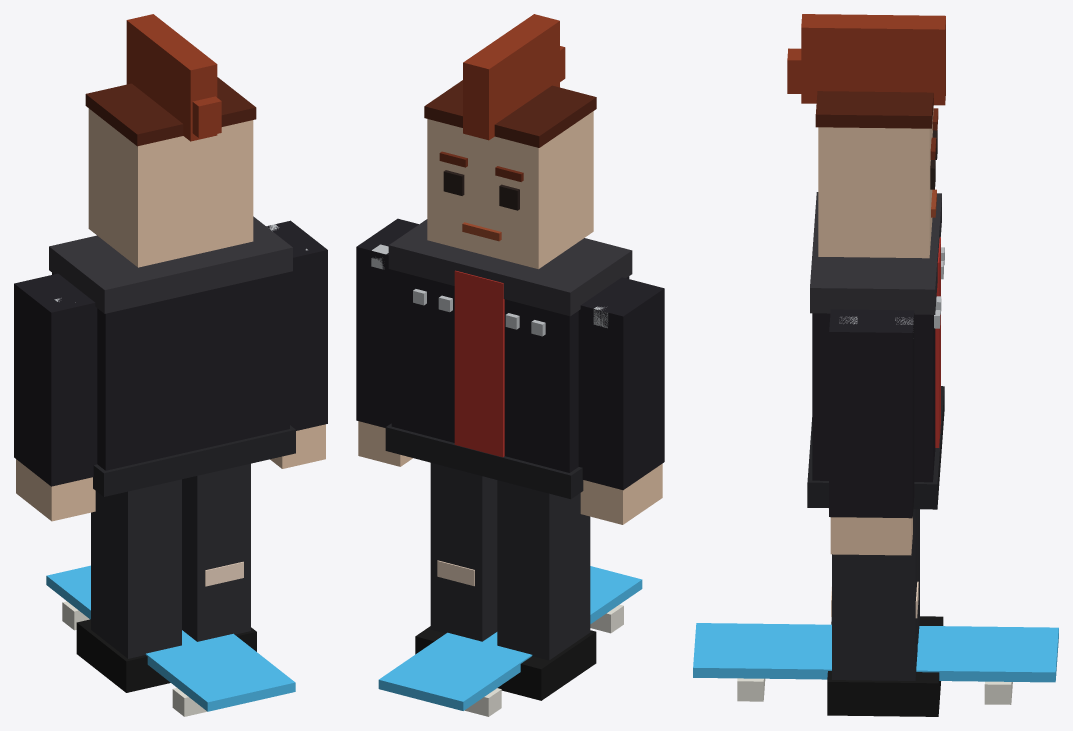
File: teen_punk_1.glb
3 views of the same model, side by side, from view 1: azimuth 30°, elevation 25°; view 2: azimuth 150°, elevation 25°; view 3: azimuth 270°, elevation 25° (orthographic). The views are drawn at different scales.
Parts seen in each view (by area): view 1: Box14, Box23, Box3, Box1, Box16, Box7, Box32, Box10, Box30, Box21, Box29, Box2 (+5 smaller); view 2: Box14, Box23, Box3, Box1, Box7, Box16, Box32, Box15, Box30, Box10, Box21, Box29 (+6 smaller); view 3: Box10, Box32, Box23, Box30, Box7, Box16, Box14, Box9, Box29, Box13, Box21, Box15 (+3 smaller).
Part boxes in pixels (<box>): Box14: <box>52,272,289,470</box>; Box23: <box>88,108,253,267</box>; Box3: <box>14,273,97,486</box>; Box1: <box>91,479,181,658</box>; Box16: <box>49,216,292,313</box>; Box7: <box>182,463,250,641</box>; Box32: <box>46,565,295,711</box>; Box10: <box>266,220,327,430</box>; Box30: <box>126,14,217,141</box>; Box21: <box>93,425,295,496</box>; Box29: <box>85,77,256,146</box>; Box2: <box>76,619,170,692</box>; Box14: <box>391,270,629,472</box>; Box23: <box>427,111,593,269</box>; Box3: <box>578,277,664,490</box>; Box1: <box>497,480,590,660</box>; Box7: <box>430,463,497,641</box>; Box16: <box>388,219,632,316</box>; Box32: <box>378,566,642,710</box>; Box15: <box>454,270,504,457</box>; Box30: <box>463,14,559,140</box>; Box10: <box>356,218,418,427</box>; Box21: <box>385,423,583,499</box>; Box29: <box>424,80,596,147</box>; Box10: <box>829,309,914,518</box>; Box32: <box>693,623,1058,682</box>; Box23: <box>818,106,933,258</box>; Box30: <box>801,14,945,105</box>; Box7: <box>832,509,917,680</box>; Box16: <box>810,192,941,314</box>; Box14: <box>812,313,935,482</box>; Box9: <box>827,671,940,716</box>; Box29: <box>815,91,933,128</box>; Box13: <box>830,517,912,555</box>; Box21: <box>807,386,944,509</box>; Box15: <box>935,237,940,447</box>.
Bounding box in the file's own units: 0.7614 × 1.65 × 0.8269.
